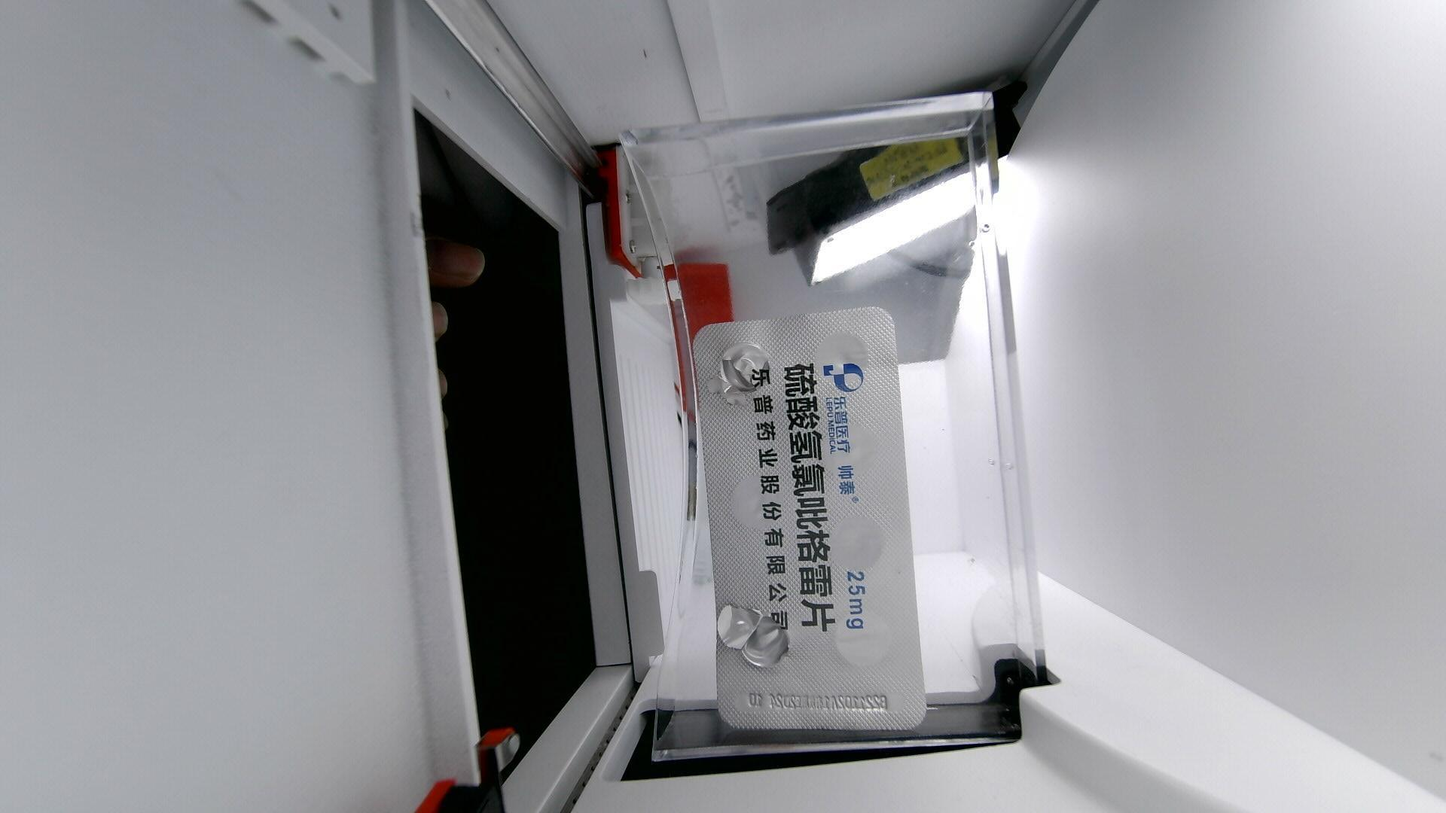No Pill Back: (728, 611, 797, 668), (713, 343, 774, 392)
Pill Back: (825, 514, 889, 577), (837, 607, 898, 671), (730, 469, 798, 525), (817, 416, 877, 464), (816, 328, 869, 379)
